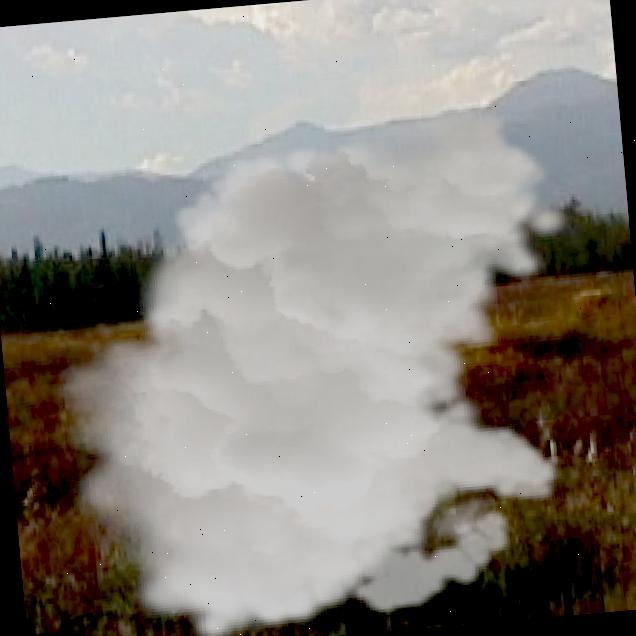smoke: (28, 97, 604, 636)
